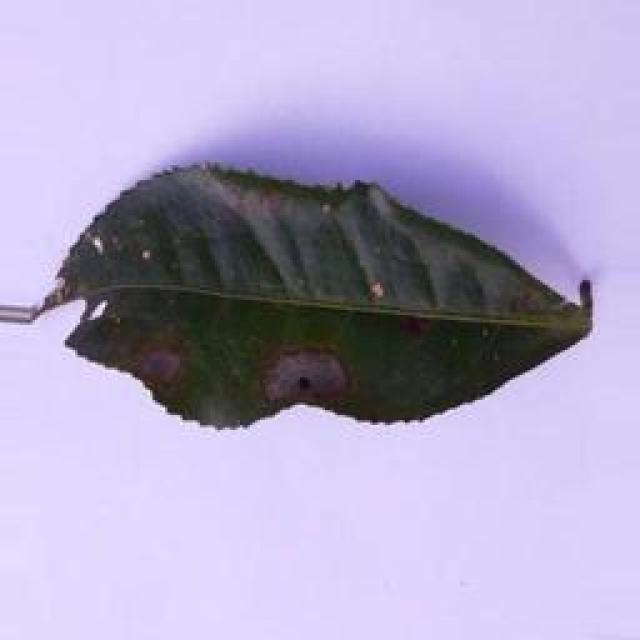Gray Blight: (0, 163, 592, 434)
